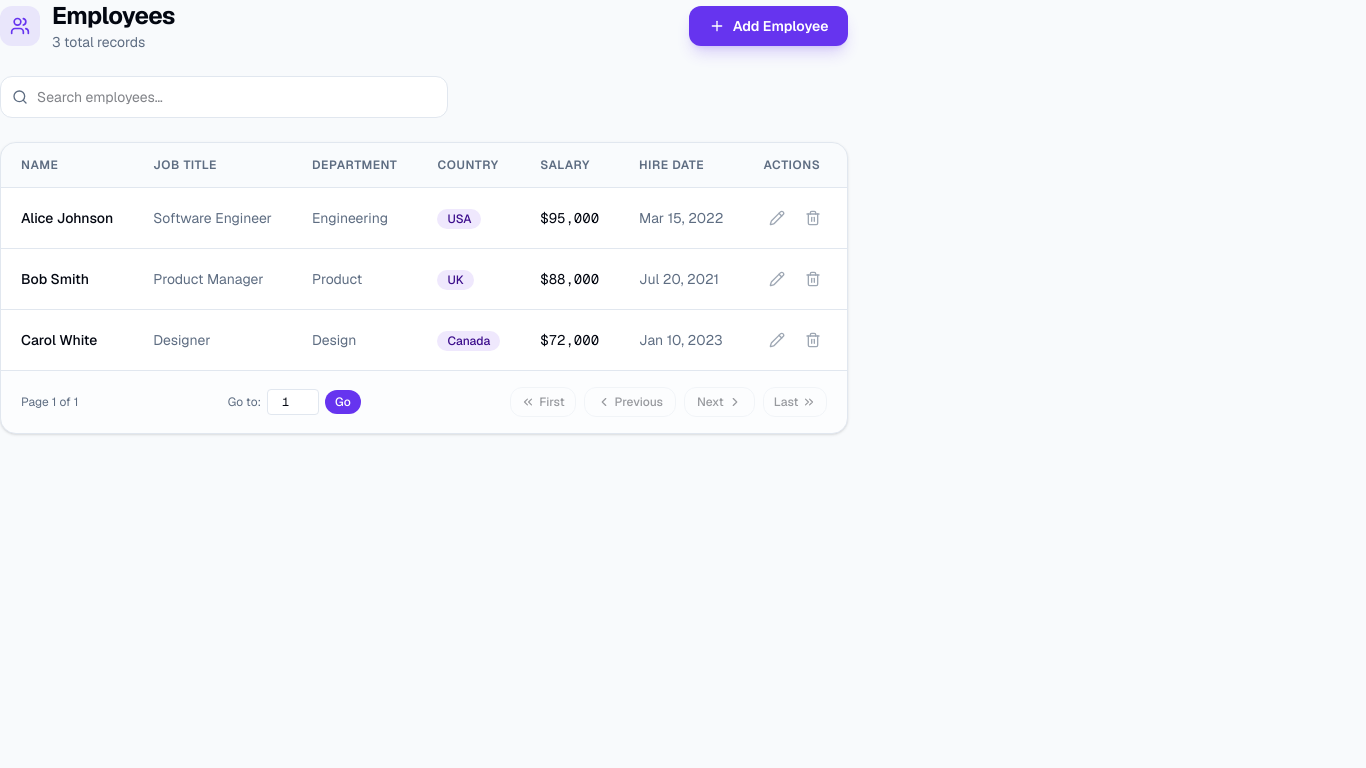
Scenario: Employees Page › Edit Employee Drawer › opens the drawer pre-filled with employee data on edit click
This screenshot has width=1366, height=768.
Expected: the text "Alice Johnson" is shown, left=1, top=188, right=133, bottom=248
Click the button named "edit" in the row of "Alice Johnson". click: (777, 218)
box: left=763, top=204, right=791, bottom=232
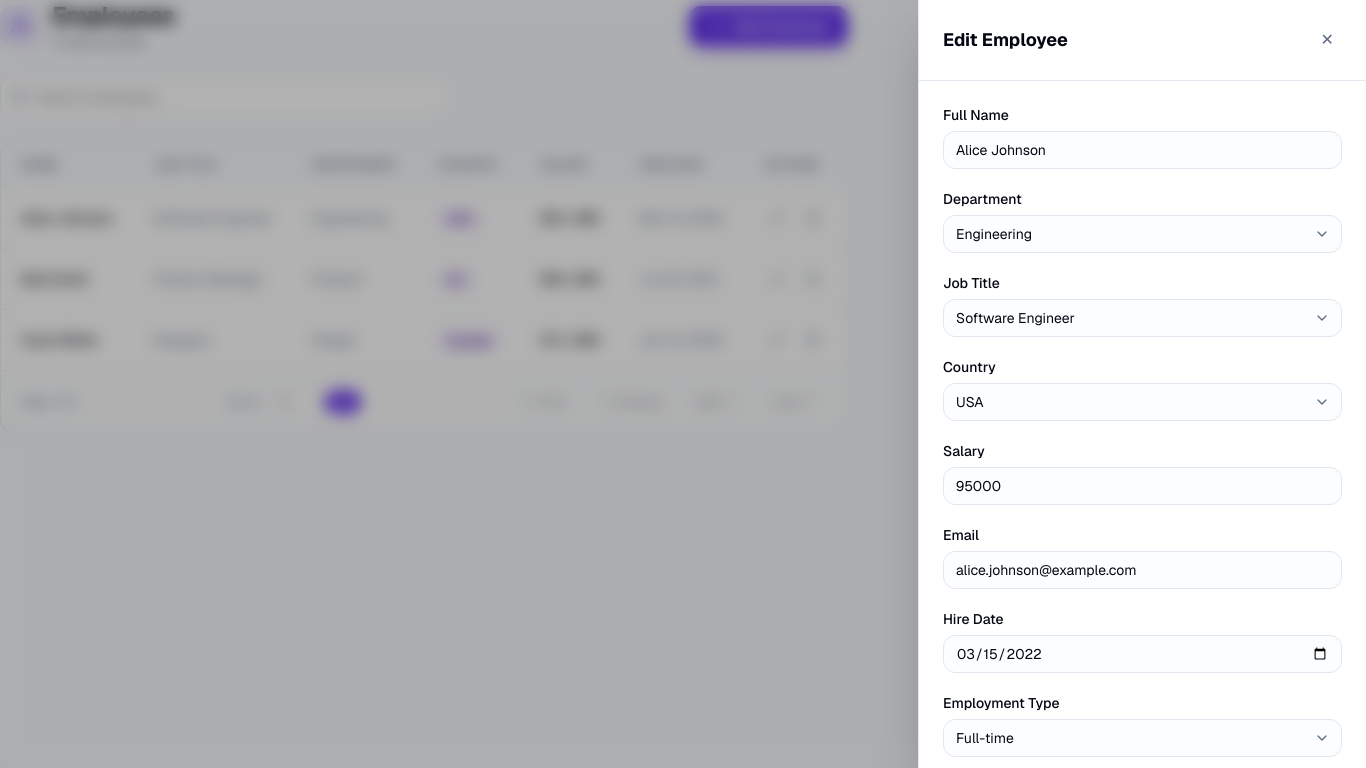
Expected: the heading "Edit Employee" is shown, left=943, top=26, right=1068, bottom=54
Expected: the field showing "Alice Johnson" is shown, left=943, top=131, right=1342, bottom=169
Expected: the field showing "Software Engineer" is shown, left=943, top=299, right=1342, bottom=337
